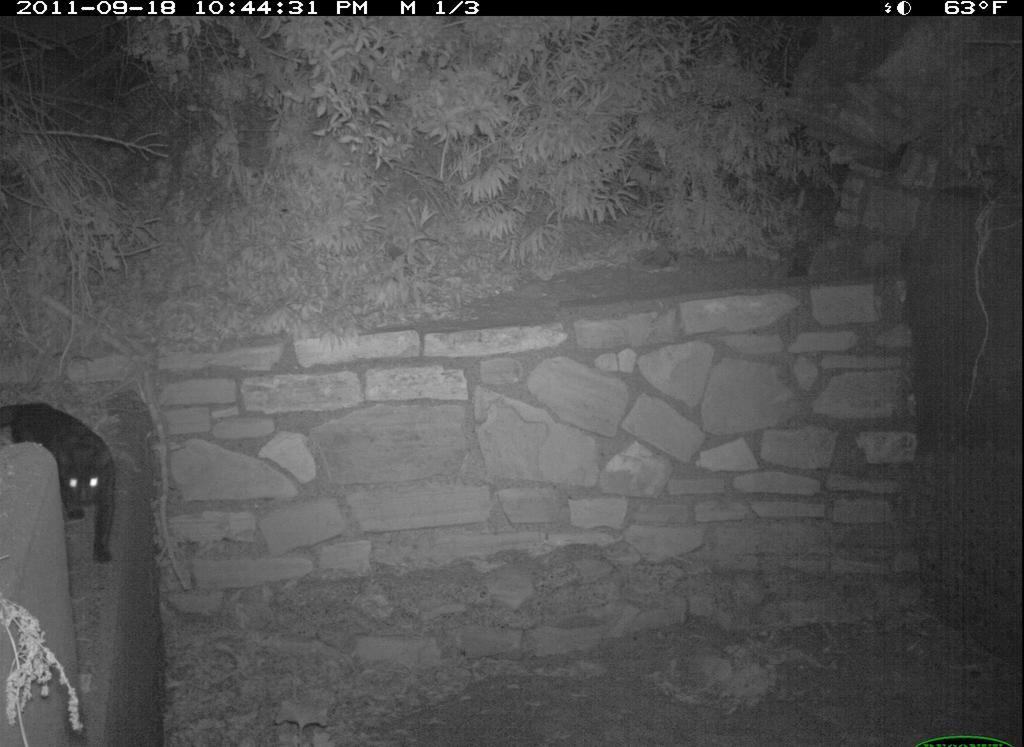cat: (2, 390, 129, 577)
